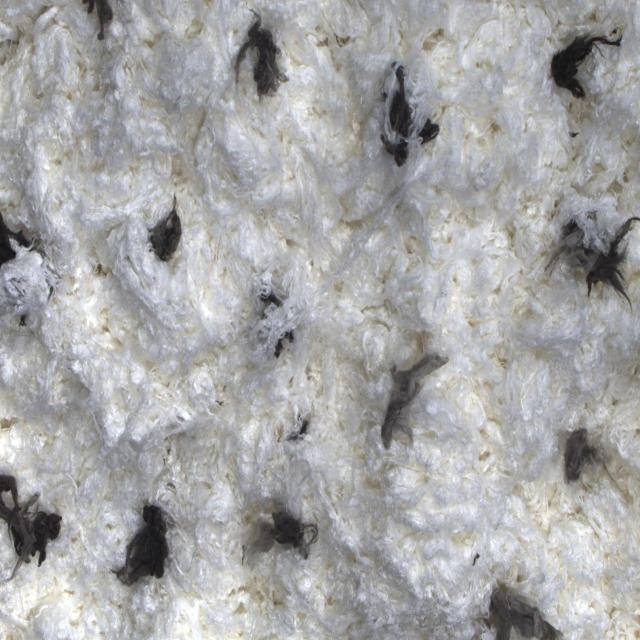dust: (547, 200, 640, 315), (104, 483, 186, 597), (548, 0, 624, 121), (377, 352, 457, 454), (0, 464, 67, 584), (0, 202, 63, 329), (245, 502, 321, 607), (132, 178, 197, 297), (235, 5, 293, 112), (561, 412, 625, 505), (473, 577, 564, 640), (380, 60, 422, 170), (256, 283, 295, 363), (276, 393, 315, 465), (410, 98, 445, 171), (80, 0, 120, 49)
